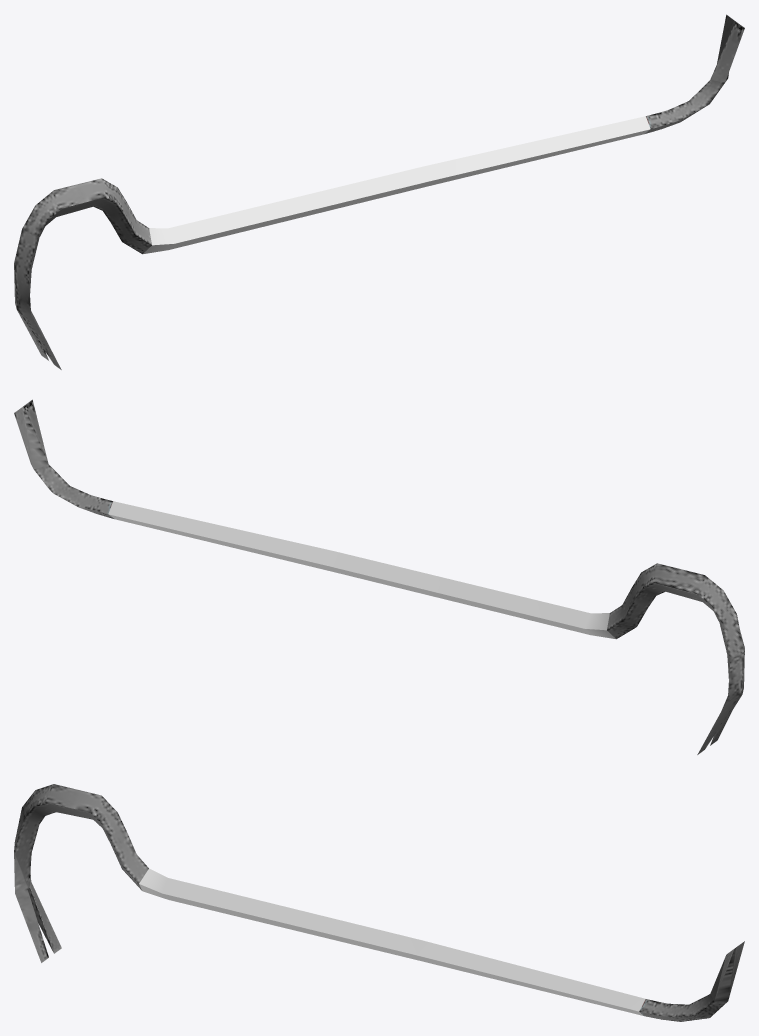
Rendered from crowbar 3.fbx.
3 views of the same model, one above another, from view 1: azimuth 30°, elevation 25°; view 2: azimuth 150°, elevation 25°; view 3: azimuth 330°, elevation 25° (orthographic).
Visible parts, largest first — view 1: crowbar; view 2: crowbar; view 3: crowbar.
Part boxes in pixels (x1,y1,x2,y2): crowbar: (14, 14, 744, 369); crowbar: (14, 399, 744, 754); crowbar: (14, 784, 744, 1021).
Bounding box in the file's own units: 395 × 91.48 × 19.5.
